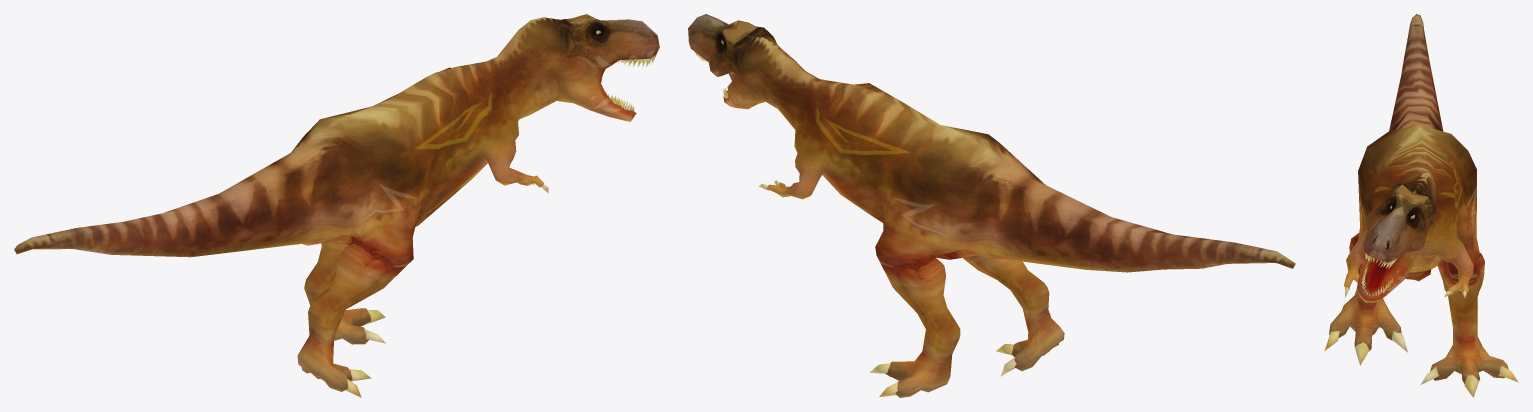
Rendered from trex.glb.
The picture shows the model from 3 angles, left to right: view 1: azimuth 30°, elevation 25°; view 2: azimuth 150°, elevation 25°; view 3: azimuth 270°, elevation 25°; orthographic projection.
Visible parts, largest first — view 1: BodyRex, BodyRex.002; view 2: BodyRex, BodyRex.002; view 3: BodyRex, BodyRex.002.
Part boxes in pixels (x1=…): BodyRex: x1=14, y1=25, x2=559, y2=397; BodyRex.002: x1=519, y1=14, x2=659, y2=121; BodyRex: x1=758, y1=44, x2=1295, y2=397; BodyRex.002: x1=688, y1=14, x2=780, y2=109; BodyRex: x1=1324, y1=14, x2=1518, y2=397; BodyRex.002: x1=1357, y1=173, x2=1436, y2=302.
Size of the model in its own units: 7.99 by 3.54 by 2.14.
Materials: 1 (1 with a texture image).
